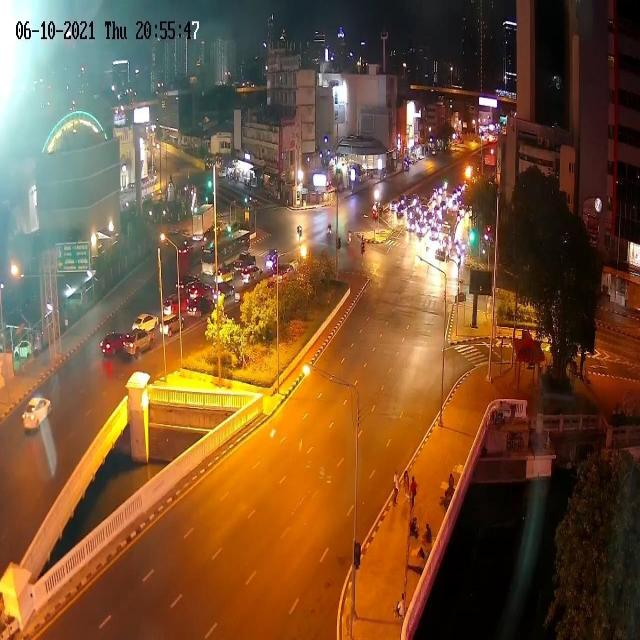Bus: (202, 231, 251, 278)
Car: (22, 396, 52, 431), (122, 331, 153, 358), (98, 327, 125, 356), (130, 311, 160, 335), (160, 312, 185, 338), (162, 292, 185, 315), (186, 297, 212, 317), (240, 264, 262, 284), (416, 221, 427, 234), (405, 218, 415, 232), (424, 215, 434, 225), (431, 226, 438, 239), (397, 204, 404, 216), (390, 200, 398, 210), (398, 194, 406, 204), (439, 201, 447, 209), (422, 206, 428, 216)
Cycle: (327, 221, 332, 237)
Truck: (440, 211, 456, 238)
